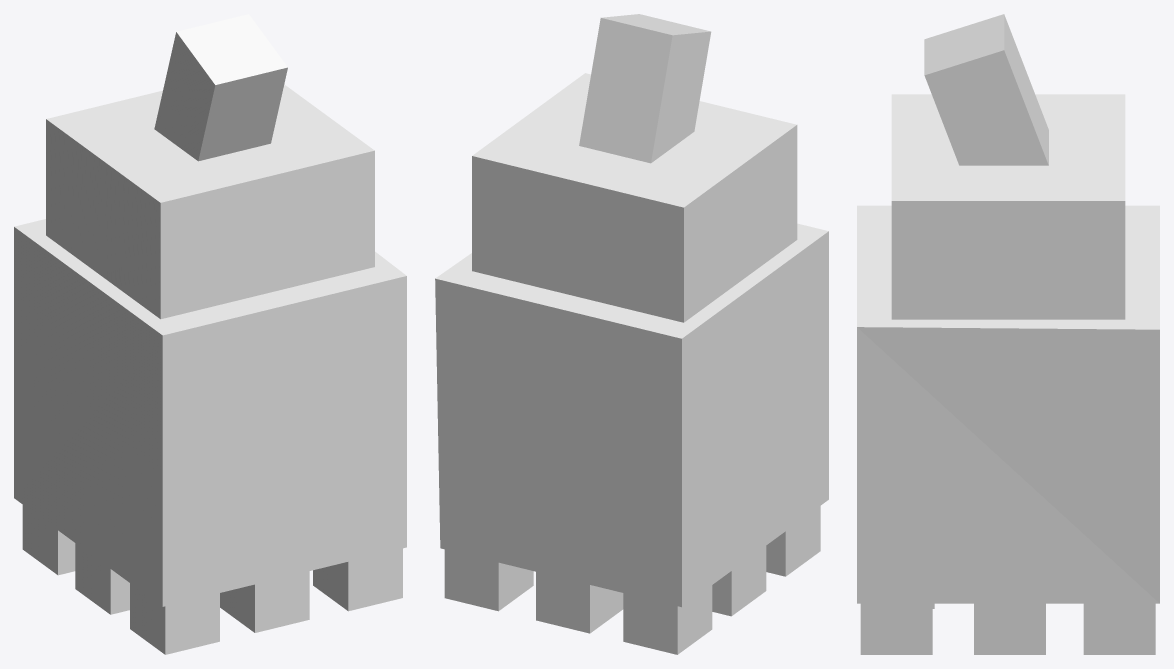
Rendered from pomeg.obj.
The picture shows the model from 3 angles, left to right: view 1: azimuth 30°, elevation 25°; view 2: azimuth 150°, elevation 25°; view 3: azimuth 270°, elevation 25°; orthographic projection. The views are drawn at different scales.
Parts seen in each view (by area): view 1: Cube.001; view 2: Cube.001; view 3: Cube.001.
Boxes of the visible parts, <box> form: Cube.001: <box>14,14,406,654</box>; Cube.001: <box>435,14,828,654</box>; Cube.001: <box>857,14,1159,654</box>.
Size of the model in its own units: 0.2347 by 0.4971 by 0.2422.
